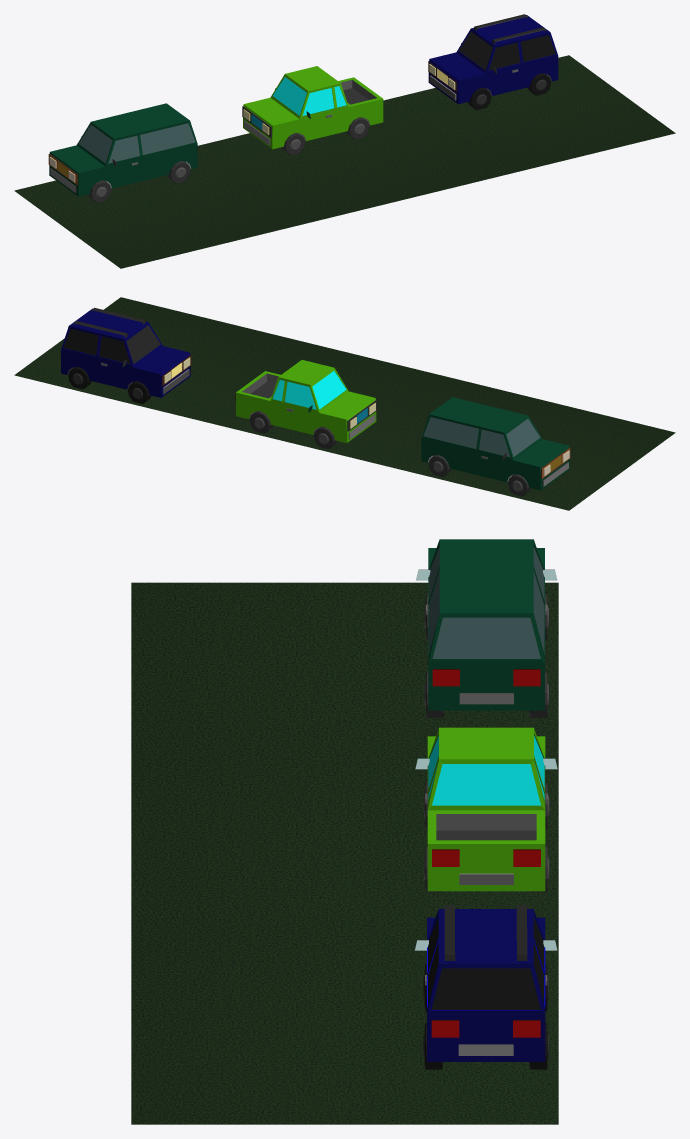
Rendered from campsite-3-cars.glb.
3 views of the same model, one above another, from view 1: azimuth 30°, elevation 25°; view 2: azimuth 150°, elevation 25°; view 3: azimuth 270°, elevation 25° (orthographic). The views are drawn at different scales.
Visible parts, largest first — view 1: Grass.002, Grass, Grass.001, Van.001, SUV.001, Pickup.001; view 2: Grass.002, Grass, Grass.001, Van.001, SUV.001, Pickup.001; view 3: Grass.002, Grass.001, Grass, Van.001, Pickup.001, SUV.001.
Part boxes in pixels (x1,y1,x2,y2): Grass.002: (384,55,675,178); Grass: (199,100,490,223); Grass.001: (14,145,305,268); Van.001: (48,103,197,202); SUV.001: (428,14,558,110); Pickup.001: (242,66,383,155); Grass.002: (14,297,305,420); Grass: (199,342,490,465); Grass.001: (384,387,675,510); Van.001: (421,397,570,496); SUV.001: (61,307,191,403); Pickup.001: (235,360,376,448); Grass.002: (131,944,558,1124); Grass.001: (131,582,558,763); Grass: (131,763,558,943); Van.001: (416,539,557,717); Pickup.001: (415,727,557,892); SUV.001: (414,905,557,1069).
Size of the model in its own units: 18.29 by 1.92 by 6.1.
2 materials, 2 textured.
